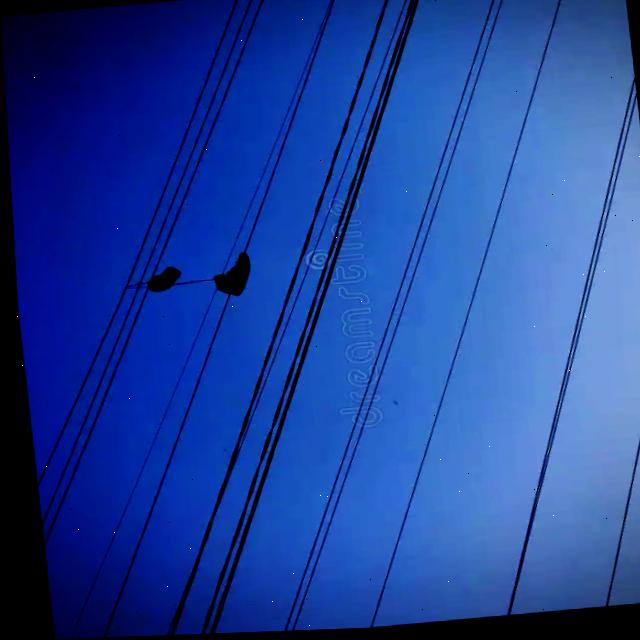obstruction: (140, 252, 248, 298)
wires: (497, 138, 640, 618), (255, 0, 417, 423), (130, 0, 264, 289), (31, 266, 146, 531), (400, 30, 489, 294), (185, 361, 279, 583), (279, 404, 362, 633)
